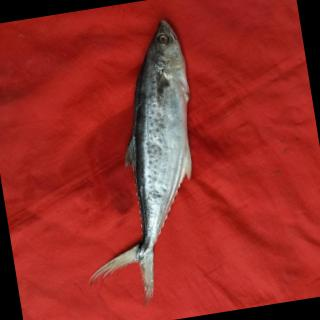Ikan: (84, 9, 240, 298)
